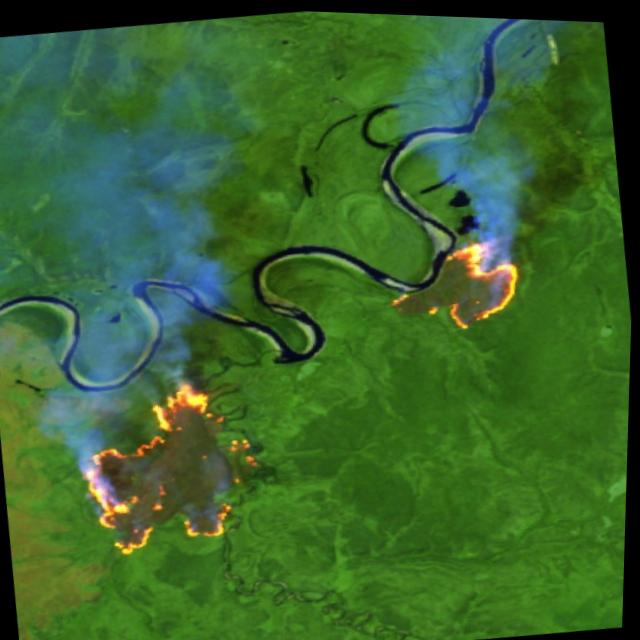fire: (65, 369, 282, 569), (374, 226, 546, 341)
